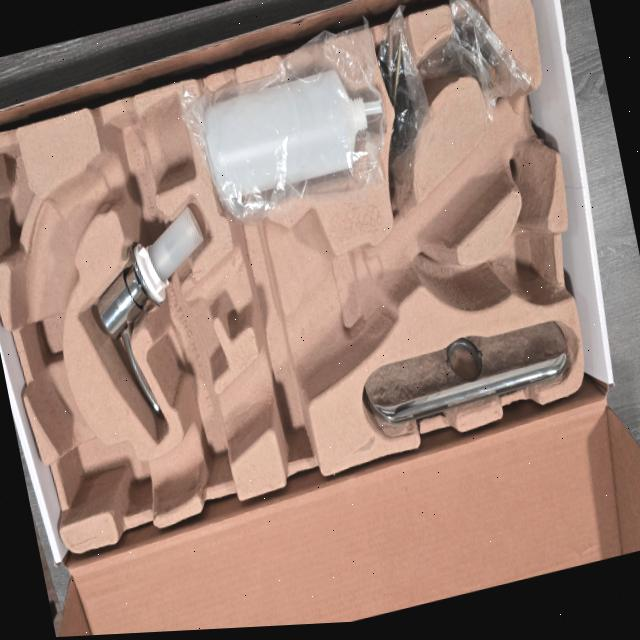1m: (11, 85, 554, 511)
2: (96, 204, 205, 414)
3: (201, 62, 387, 205)
4: (365, 321, 568, 424)
5m: (496, 226, 550, 297)
6: (421, 0, 533, 119)
7: (373, 2, 436, 167)
